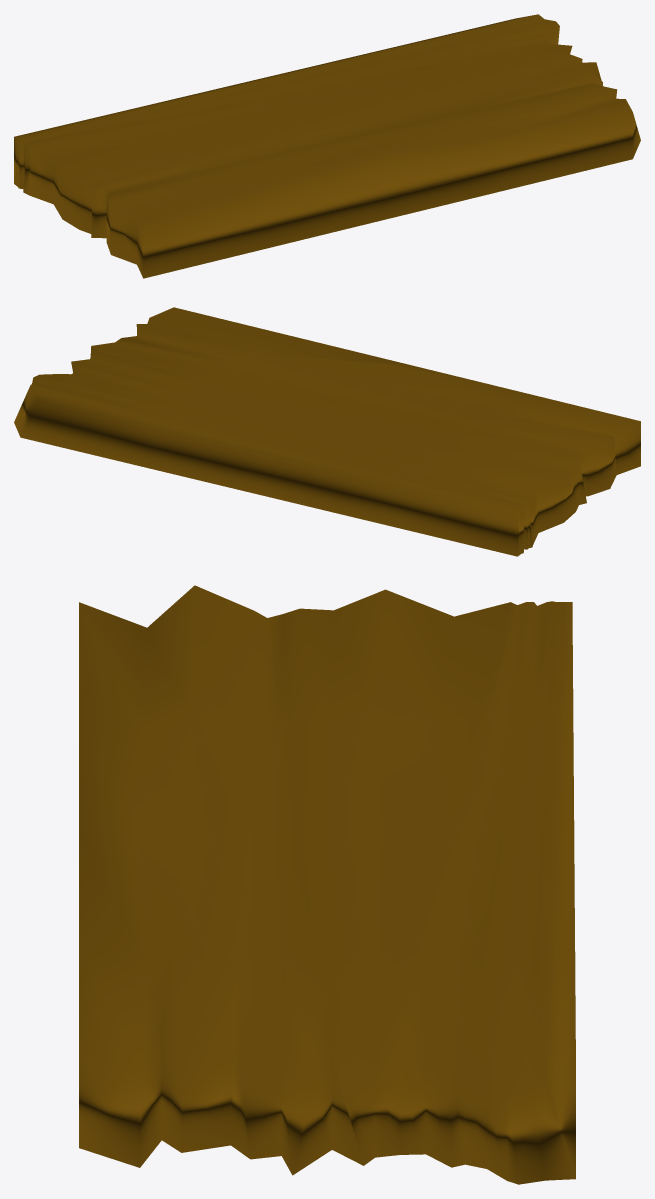
The model's file is plank2.fbx.
3 views of the same model, one above another, from view 1: azimuth 30°, elevation 25°; view 2: azimuth 150°, elevation 25°; view 3: azimuth 270°, elevation 25° (orthographic). The views are drawn at different scales.
Parts seen in each view (by area): view 1: Cube.002; view 2: Cube.002; view 3: Cube.002.
Boxes of the visible parts, x1,y1,x2,y2 form: Cube.002: (14, 14, 640, 278); Cube.002: (14, 307, 640, 556); Cube.002: (79, 585, 575, 1184).
Bounding box in the file's own units: 481 × 48.29 × 201.
